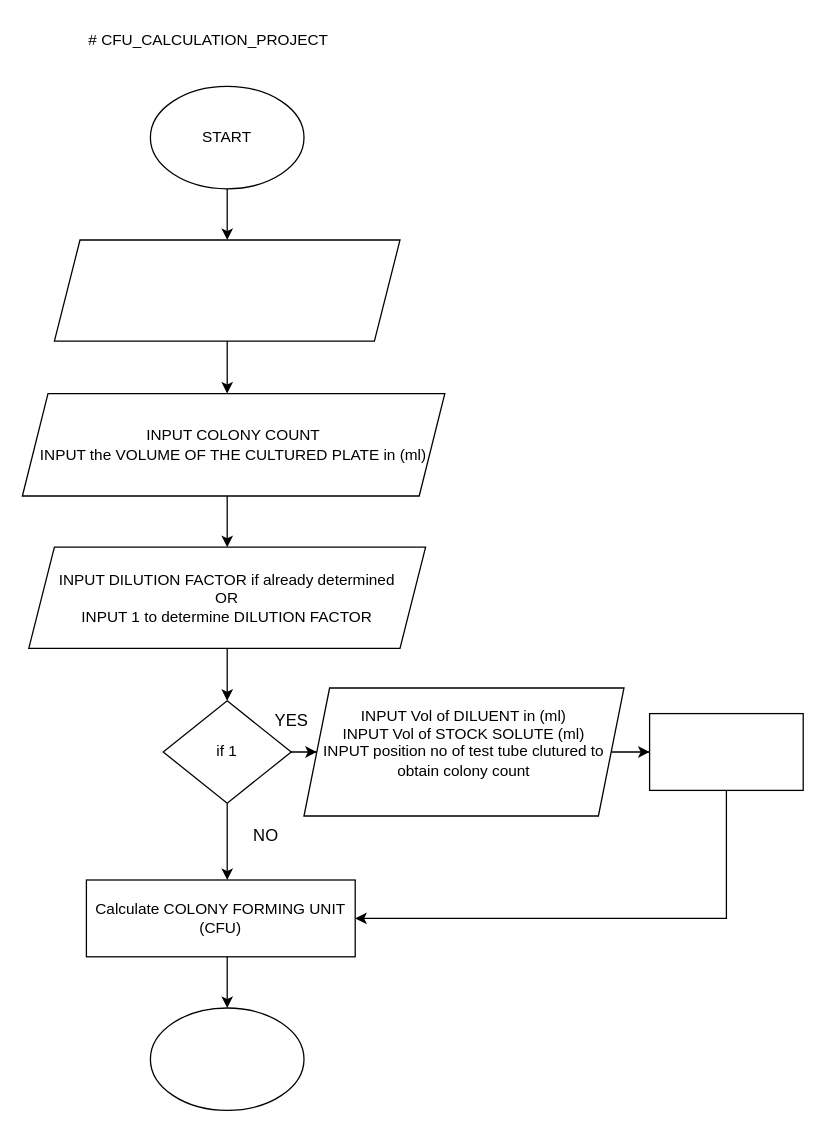
Image size: 826x1133. Some labels were removed from this diagram. Each missing label, with the centre of its shape:
Calculate DILUTION FACTOR: [725,751]
OUTPUT "COLONY FORMING UNIT CALCULATOR": [226,290]
STOP: [226,1058]
